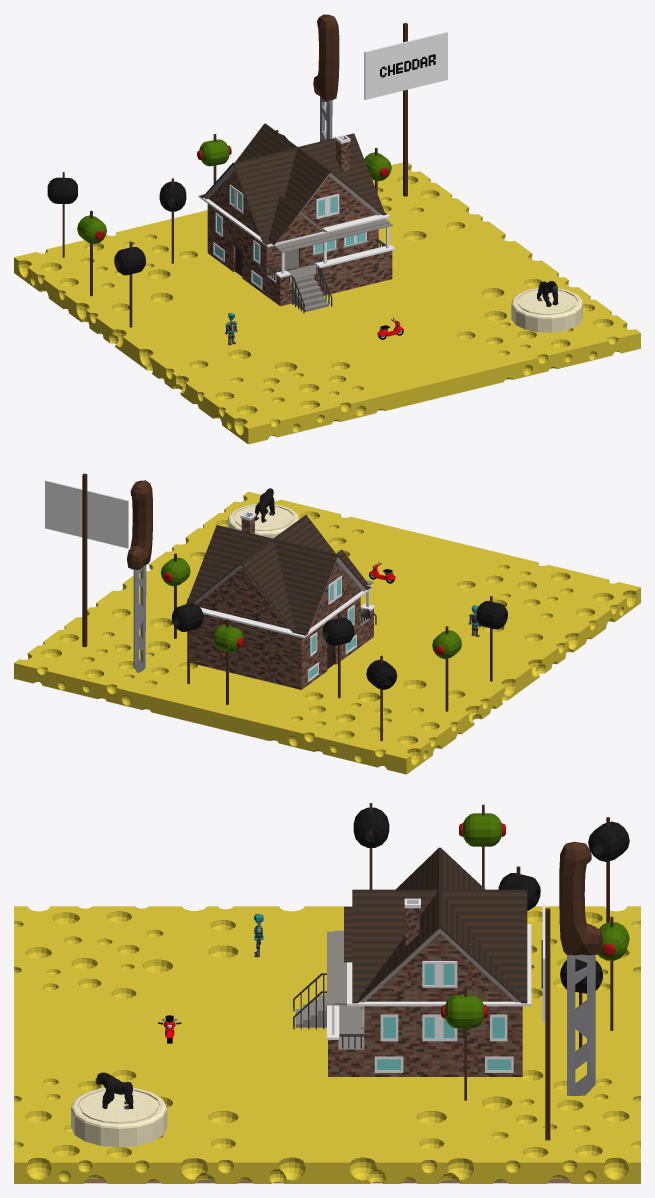
3 renders of one model, top to bottom at view 1: azimuth 30°, elevation 25°; view 2: azimuth 150°, elevation 25°; view 3: azimuth 270°, elevation 25°, orthographic. The views are drawn at different scales.
Parts seen in each view (by area): view 1: Cube.022, Cube.117, Cube.023, Cylinder.016, Cube.024, Sphere.017, Sphere.016, Sphere.020, Sphere.018, Sphere.022, Sphere.019; view 2: Cube.022, Cube.117, Cube.023, Cube.024, Cylinder.016, Sphere.017, Sphere.020, Sphere.021, Sphere.016, Sphere.018, Sphere.022, Sphere.019 (+1 smaller); view 3: Cube.022, Cube.117, Cube.024, Cylinder.016, Cube.023, Sphere.019, Sphere.016, Sphere.018, Sphere.017, Sphere.022, Sphere.020, ANIMAL_GORILA (+2 smaller).
Boxes of the visible parts, x1,y1,x2,y2 form: Cube.022: (14,162,640,444); Cube.117: (198,123,395,313); Cube.023: (364,23,447,196); Cylinder.016: (511,288,582,332); Cube.024: (313,14,339,141); Sphere.017: (114,242,145,327); Sphere.016: (47,172,77,257); Sphere.020: (159,178,186,263); Sphere.018: (77,210,106,296); Sphere.022: (197,134,231,183); Sphere.019: (364,148,391,192); Cube.022: (14,491,640,774); Cube.117: (185,511,376,689); Cube.023: (45,473,128,647); Cube.024: (127,480,152,672); Cylinder.016: (228,504,298,538); Sphere.017: (476,596,507,681); Sphere.020: (322,612,354,698); Sphere.021: (171,598,203,683); Sphere.016: (366,655,397,741); Sphere.018: (432,626,461,711); Sphere.022: (212,619,244,704); Sphere.019: (160,553,190,638); Cube.022: (14,906,640,1183); Cube.117: (293,847,531,1076); Cube.024: (559,841,602,1095); Cylinder.016: (71,1088,167,1147); Cube.023: (541,904,550,1140); Sphere.019: (441,986,487,1100); Sphere.016: (588,817,629,922); Sphere.018: (459,804,505,887); Sphere.017: (353,803,389,889); Sphere.022: (598,916,629,1030); Sphere.020: (498,866,540,910); ANIMAL_GORILA: (95,1072,133,1109).
Bounding box in the file's own units: 3917 × 1957 × 4000.
Materials: 35 (5 with a texture image).
